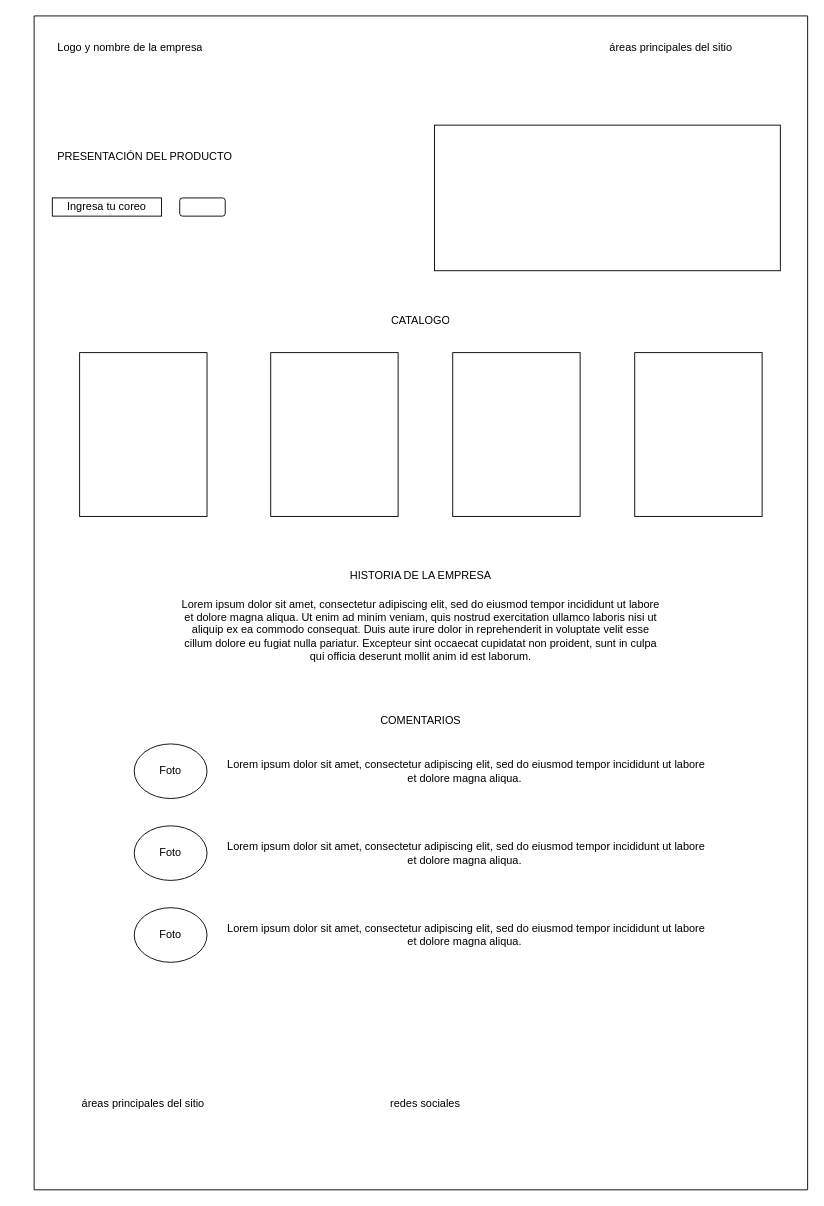
This 824x1206 diagram has some shape labels left out. Here are the shapes that lost their labels. From the top down, the centre of each, then its label:
At point (202, 206): "Enviar".
At point (607, 197): "Imagen de la pastelería".
